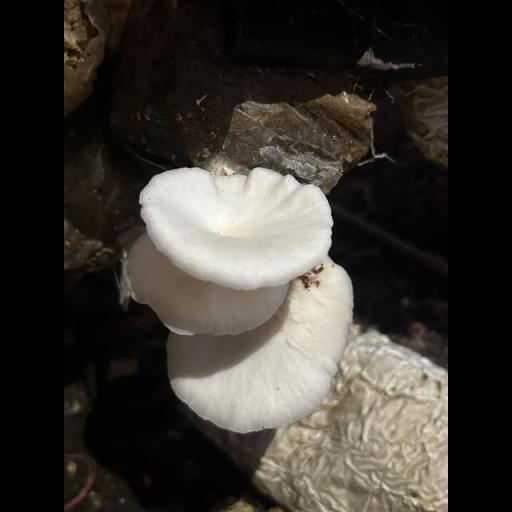White Oyster Mushroom: (112, 158, 354, 439)
